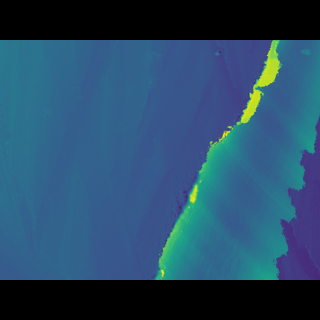Loch: (143, 70, 319, 247)
